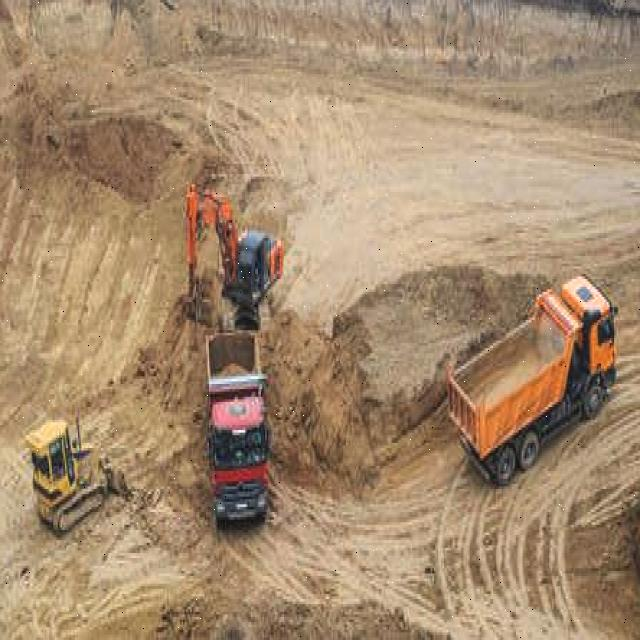Excavator: (182, 179, 284, 330)
